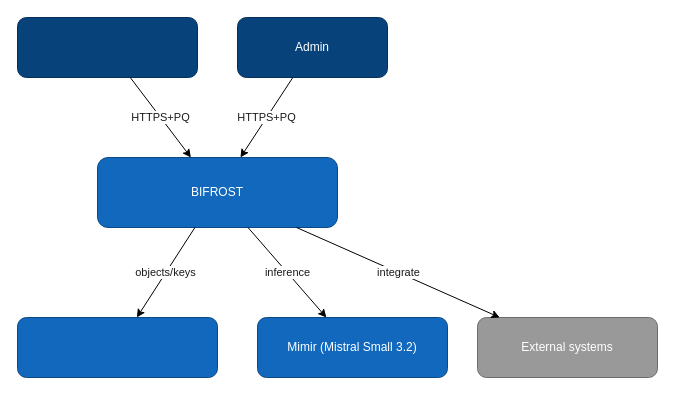
Image size: 675x395. Some labels were removed from this diagram. The shapes that lost their labels are listed below. From the top down, each one's centre as x and y in pixels, then its label:
At (107,47): "Bifrost User".
At (117,347): "Midgard Core".
